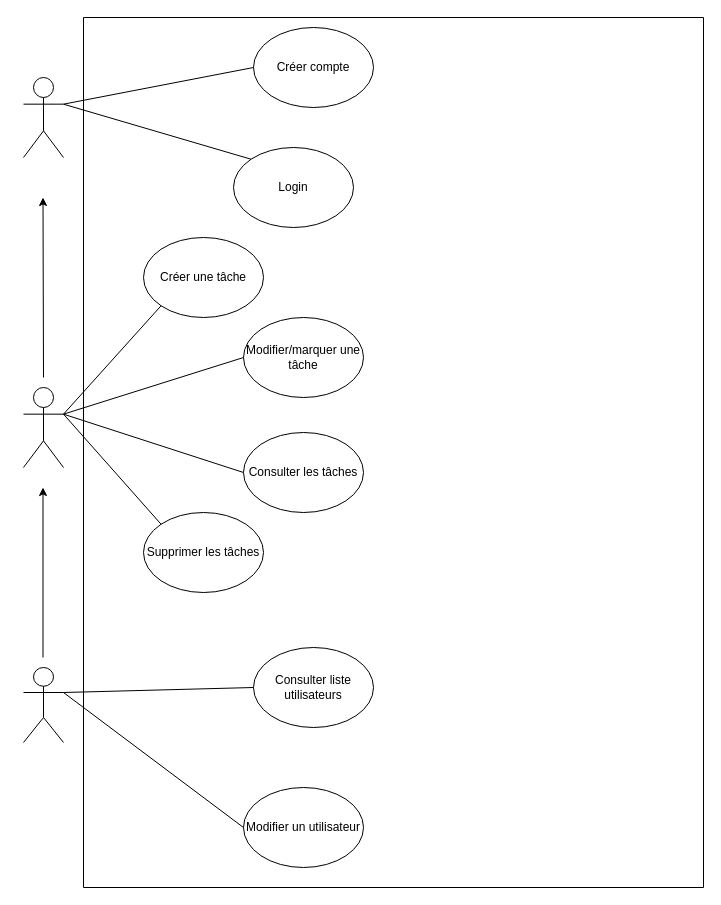
This 721x905 diagram has some shape labels left out. Each missing label, with the box of its shape:
Admin: (22, 666, 64, 742)
Utilisateur: (22, 386, 64, 468)
Visiteur: (22, 76, 64, 158)
